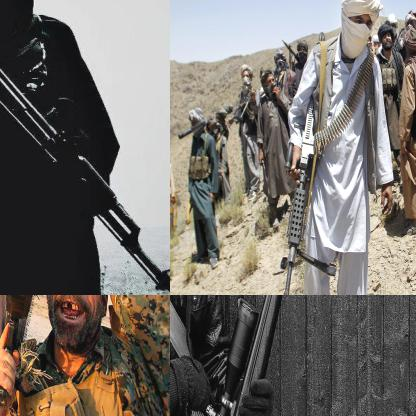rifle: (0, 54, 169, 294), (194, 295, 324, 415), (278, 92, 338, 294), (0, 295, 56, 406)
